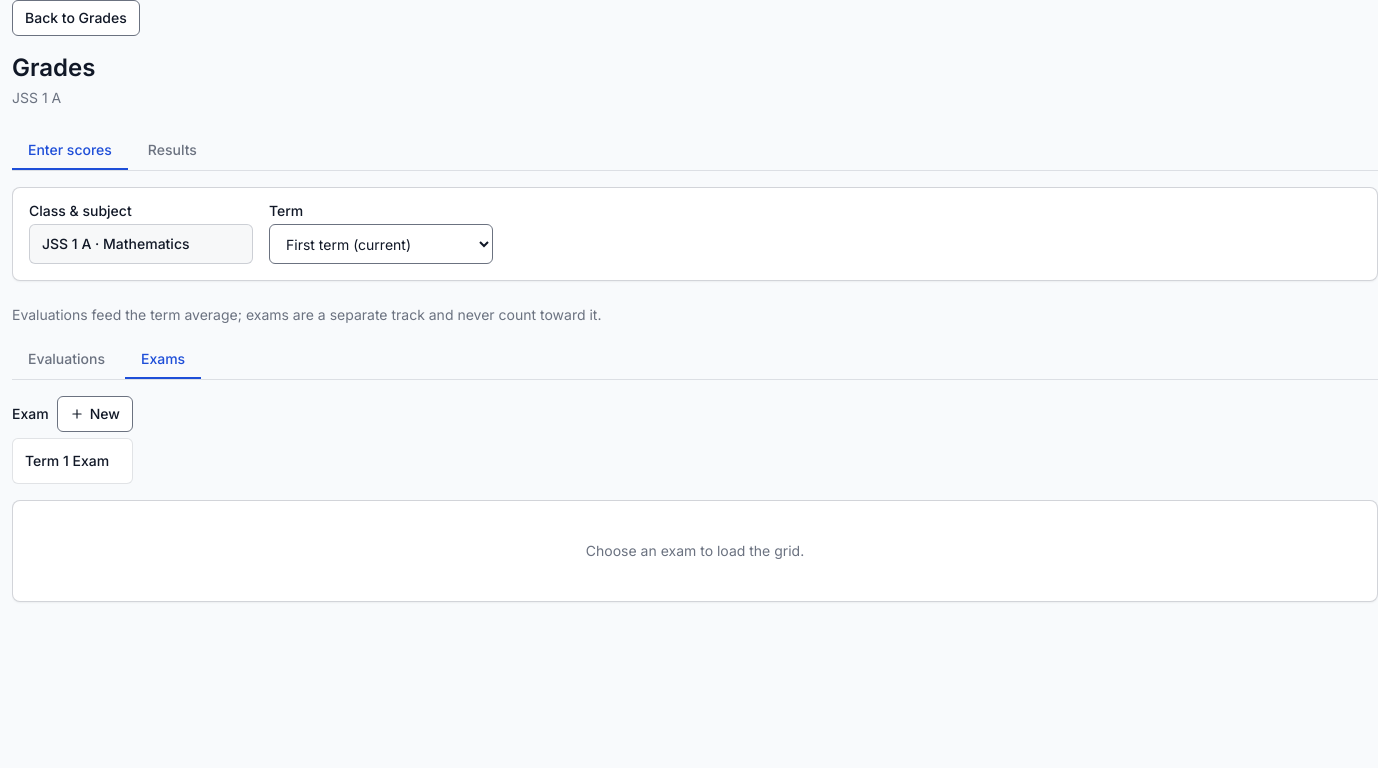
it: ClassGradesPage — Enter scores tab › selecting an exam shows its name + class/subject context in the grid heading
What coordinates should you click on to do the following:
click the button "Term 1 Exam"
I would click on:
 (72, 461)
Its box is x1=12 y1=438 x2=133 y2=484.
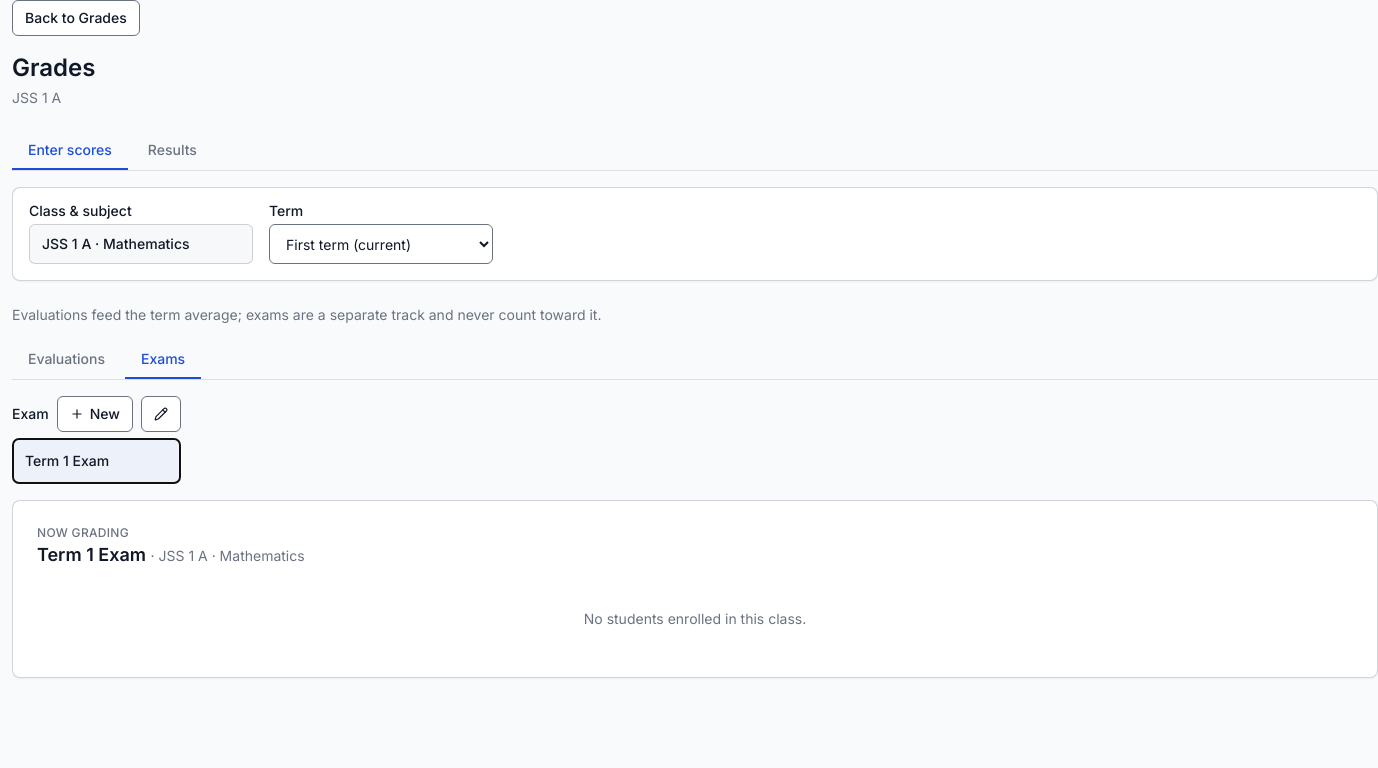
Expected: the text "Term 1 Exam" is shown, x1=25 y1=451 x2=109 y2=471
Result: the text "Now grading" is shown at x1=37 y1=525 x2=129 y2=540
